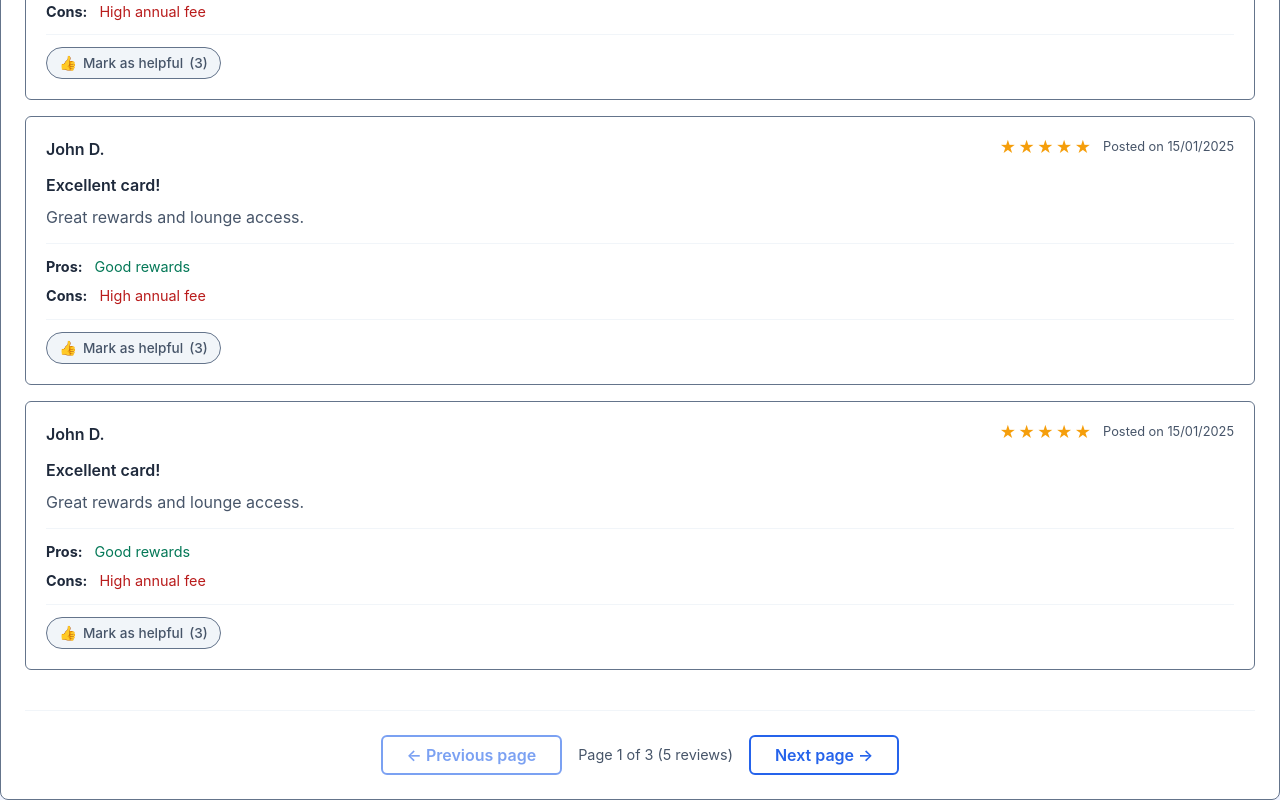
Test: ReviewsSection › Pagination › keeps page count based on the first page size on a short final page
(page scrolled)
Click the button "Next page →": (824, 755) [749,735,899,775]
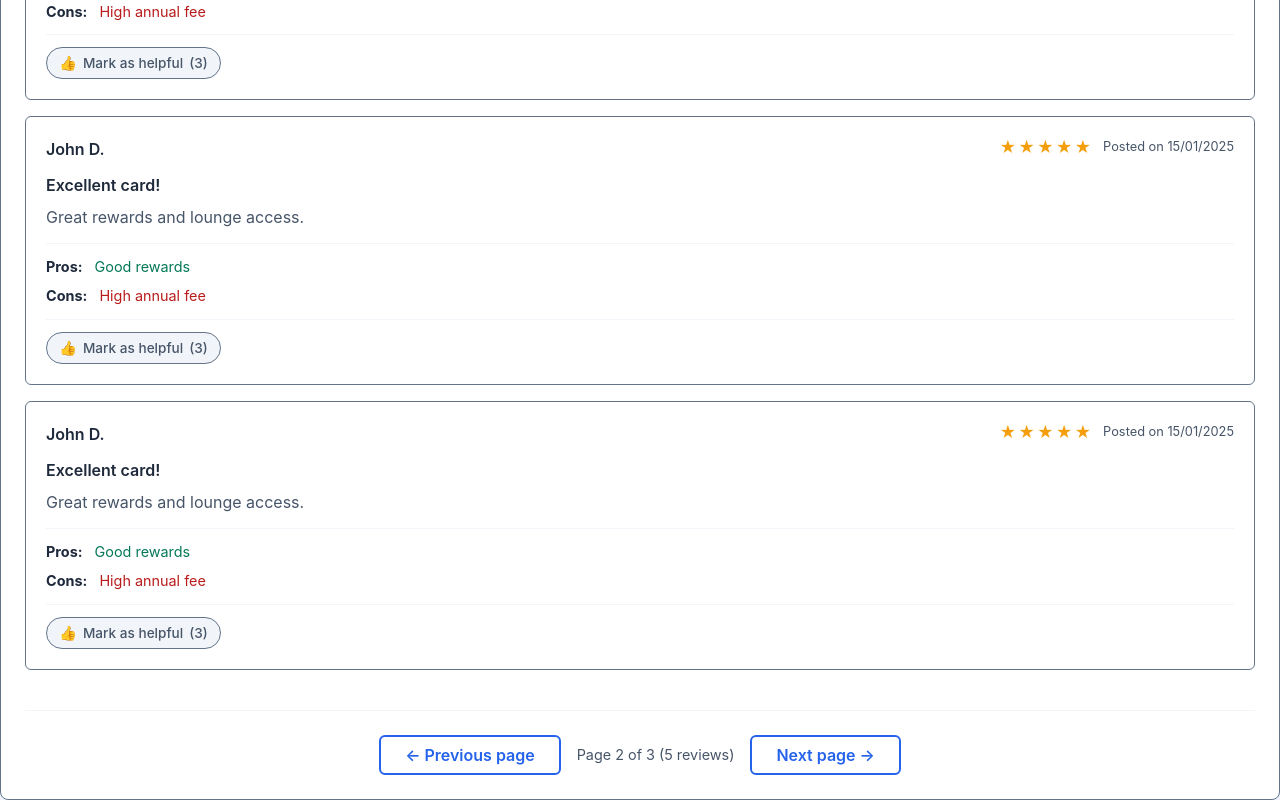
Click the button "Next page →": (826, 755) [750,735,901,775]
(page scrolled)
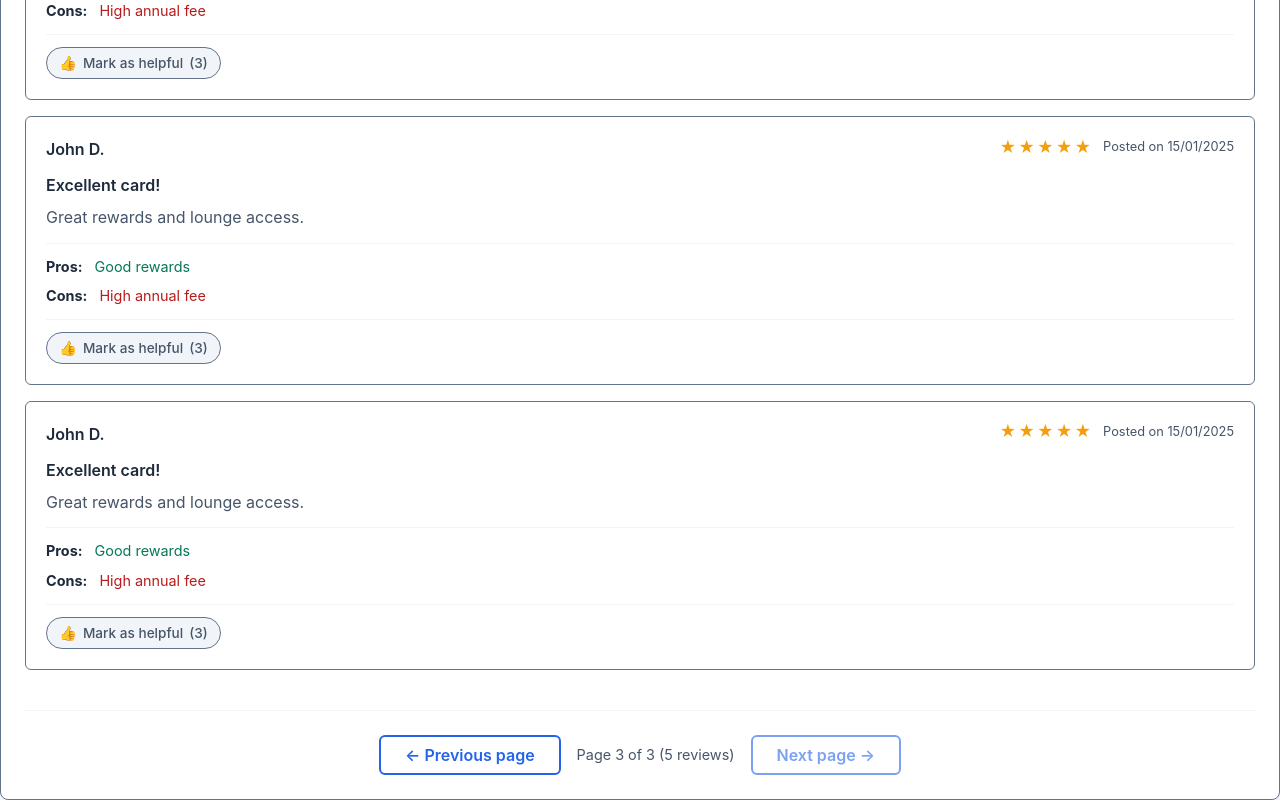
Result: the text "Page 3 of 3" is shown at [577,746,655,763]
Result: the button "Next page →" is disabled at [750,735,901,775]
